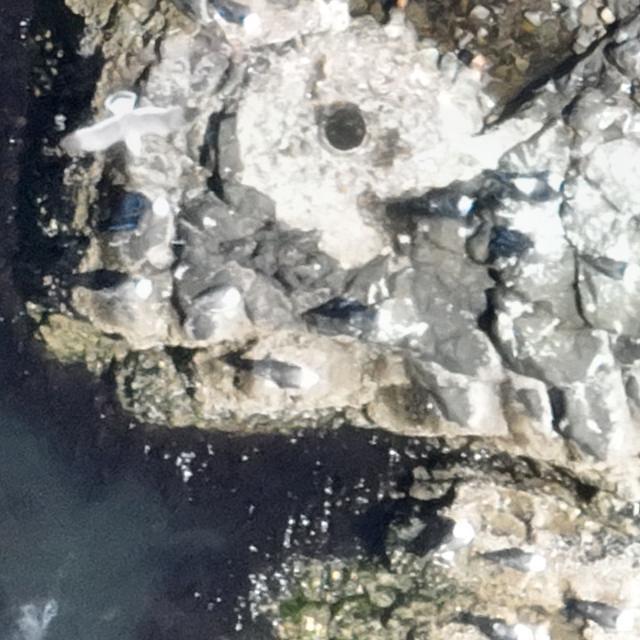F: (63, 92, 186, 156)
umineko: (261, 362, 320, 388), (576, 605, 633, 630), (215, 2, 259, 34), (436, 521, 475, 554), (136, 197, 168, 237), (514, 177, 556, 203), (591, 256, 637, 279), (346, 309, 392, 331), (196, 288, 240, 310), (502, 552, 548, 573), (482, 623, 542, 638), (428, 196, 472, 216), (104, 280, 152, 298)
